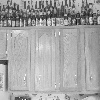beer: (28, 5, 32, 26)
